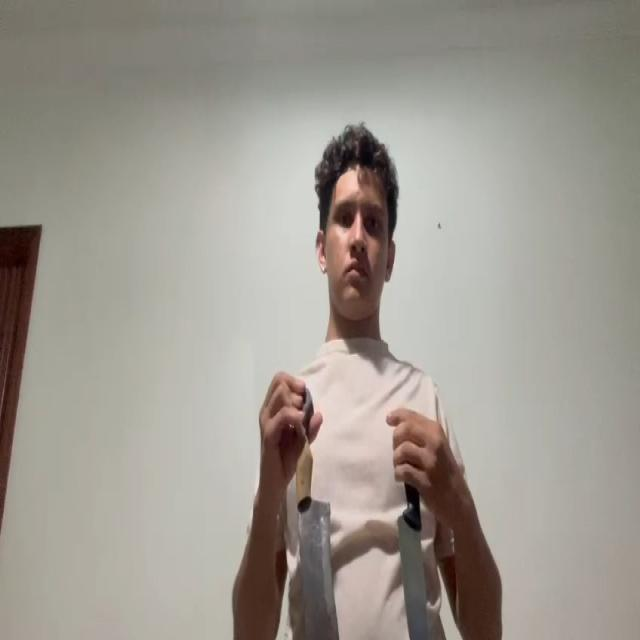knife: (298, 496, 340, 640), (396, 506, 429, 640)
